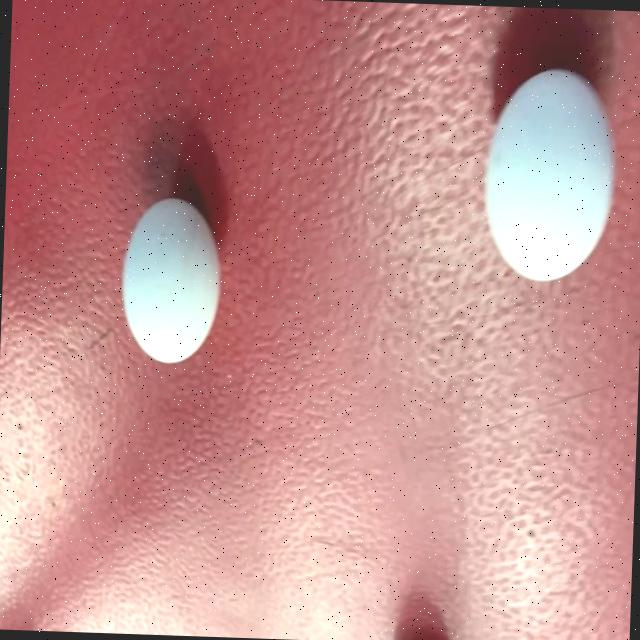ping-pong-ball: (475, 48, 619, 295), (116, 185, 224, 372)
